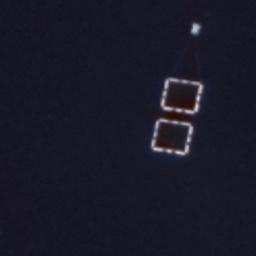square_solid: (149, 116, 195, 159), (159, 76, 205, 117)
